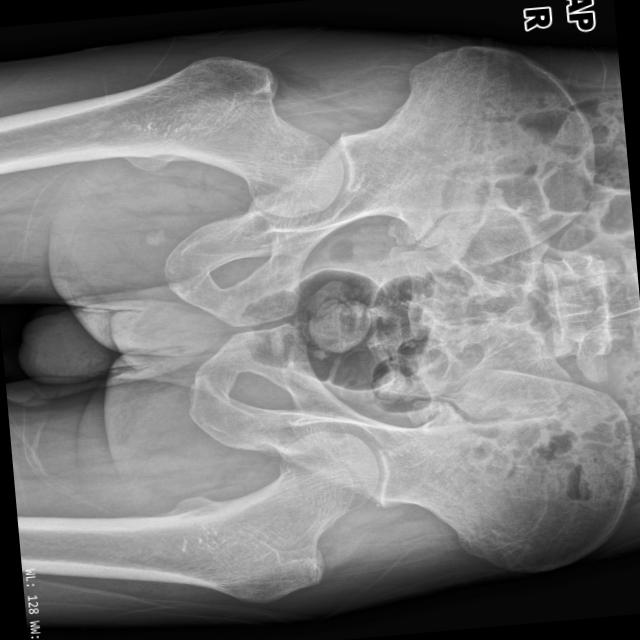normal-left: (16, 432, 378, 602)
normal-right: (0, 56, 343, 217)
